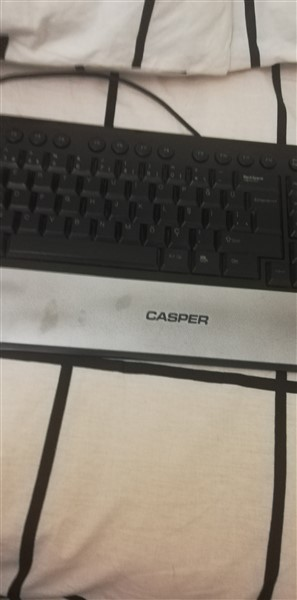klavye: (1, 136, 296, 366)
